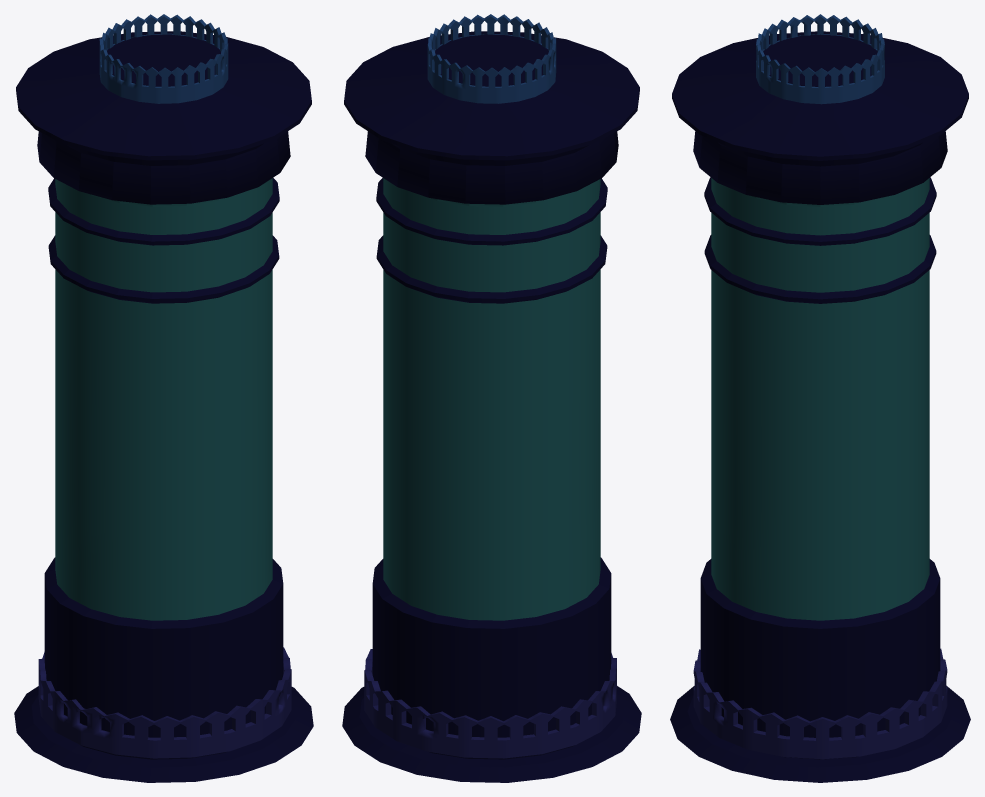
File: Litfaßsäule.fbx
The picture shows the model from 3 angles, left to right: view 1: azimuth 30°, elevation 25°; view 2: azimuth 150°, elevation 25°; view 3: azimuth 270°, elevation 25°; orthographic projection.
Parts seen in each view (by area): view 1: pPipe3; view 2: pPipe3; view 3: pPipe3.
Boxes of the visible parts, left/top/right/bottom form: pPipe3: left=14, top=14, right=313, bottom=782; pPipe3: left=342, top=14, right=641, bottom=782; pPipe3: left=670, top=14, right=970, bottom=782.
Bounding box in the file's own units: 241 × 606 × 241.
